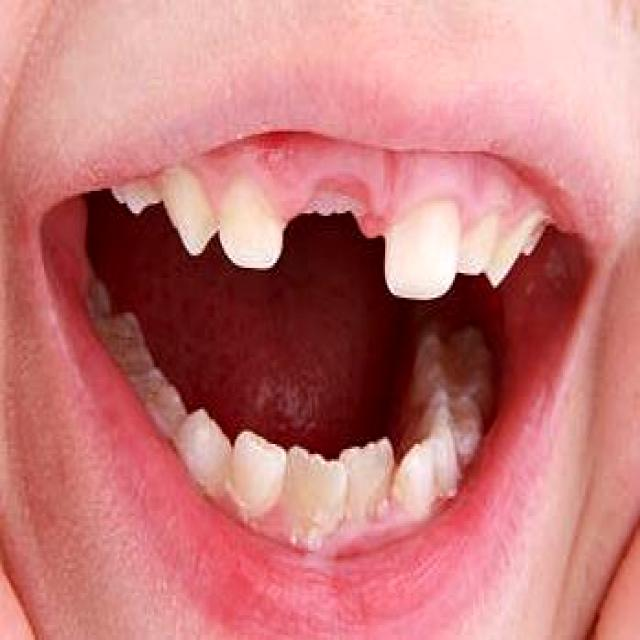hypodontia: (147, 141, 539, 275)
